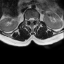CCS_normal: (30, 15, 32, 25)
LFS_normal: (34, 15, 36, 23)
LLS_normal: (32, 15, 34, 23)
RFS_normal: (26, 16, 28, 23)
RLS_normal: (28, 16, 30, 23)
